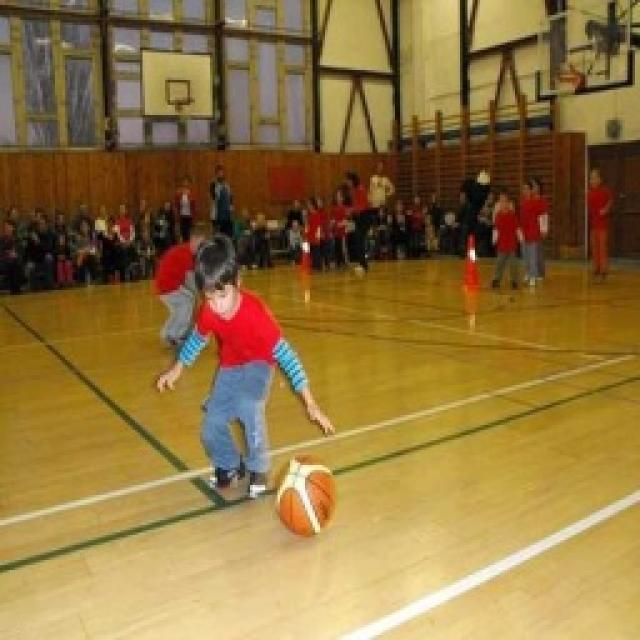rim: (266, 446, 346, 545)
